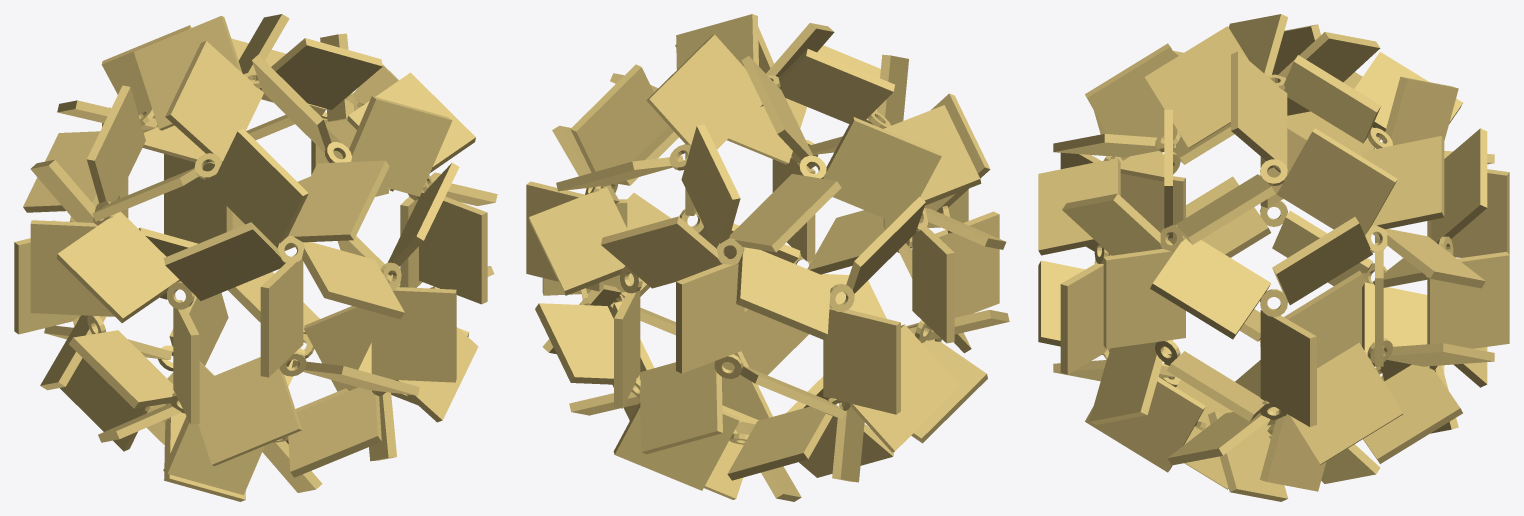
Rendered from george-hart-bookball-3.gltf.
3 views of the same model, side by side, from view 1: azimuth 30°, elevation 25°; view 2: azimuth 150°, elevation 25°; view 3: azimuth 270°, elevation 25° (orthographic).
Bounding box in the file's own units: 117 × 120 × 115.
